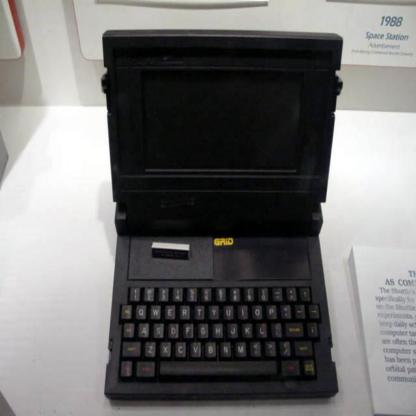board: (100, 29, 344, 403)
